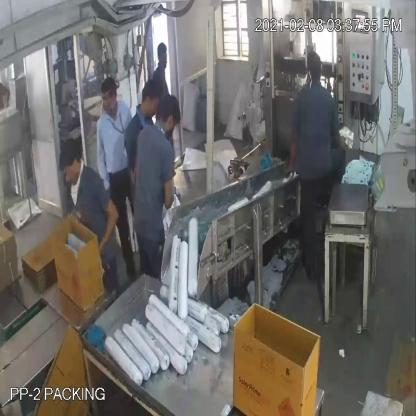no_glove: (99, 192, 120, 258)
